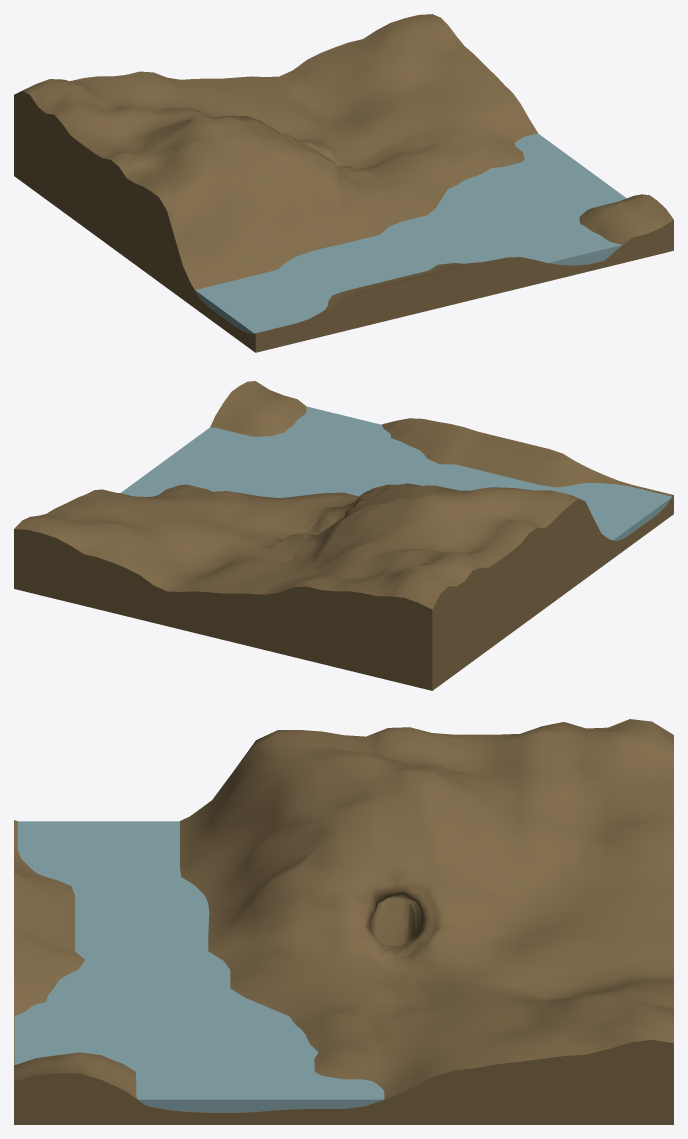
Rendered from Terrain FBX v2 (Water uvs).fbx.
3 renders of one model, top to bottom at view 1: azimuth 30°, elevation 25°; view 2: azimuth 150°, elevation 25°; view 3: azimuth 270°, elevation 25°, orthographic. The views are drawn at different scales.
Parts seen in each view (by area): view 1: pPlane1, pCube1; view 2: pPlane1, pCube1; view 3: pPlane1, pCube1.
Part boxes in pixels (x1,y1,x2,y2): pPlane1: (14, 14, 673, 352); pCube1: (195, 133, 626, 333); pPlane1: (14, 381, 673, 690); pCube1: (120, 406, 672, 541); pPlane1: (14, 719, 673, 1124); pCube1: (14, 821, 384, 1112).
Size of the model in its own units: 23.31 by 5.41 by 23.31.
